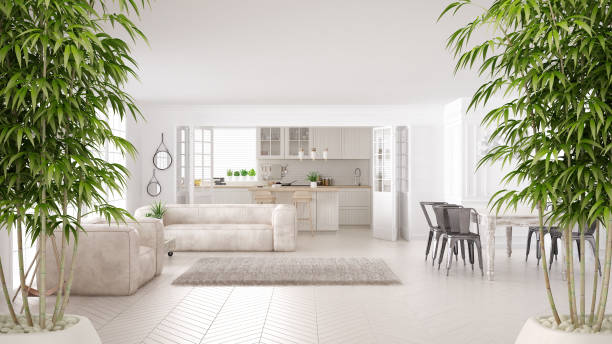chair: (40, 212, 164, 297)
dining table set: (418, 197, 605, 281)
large plant: (440, 0, 612, 330), (1, 0, 125, 344)
small plant: (308, 172, 318, 189), (247, 169, 256, 183), (224, 169, 232, 184), (240, 168, 247, 183), (232, 170, 240, 183)
sofa: (130, 200, 300, 254)
